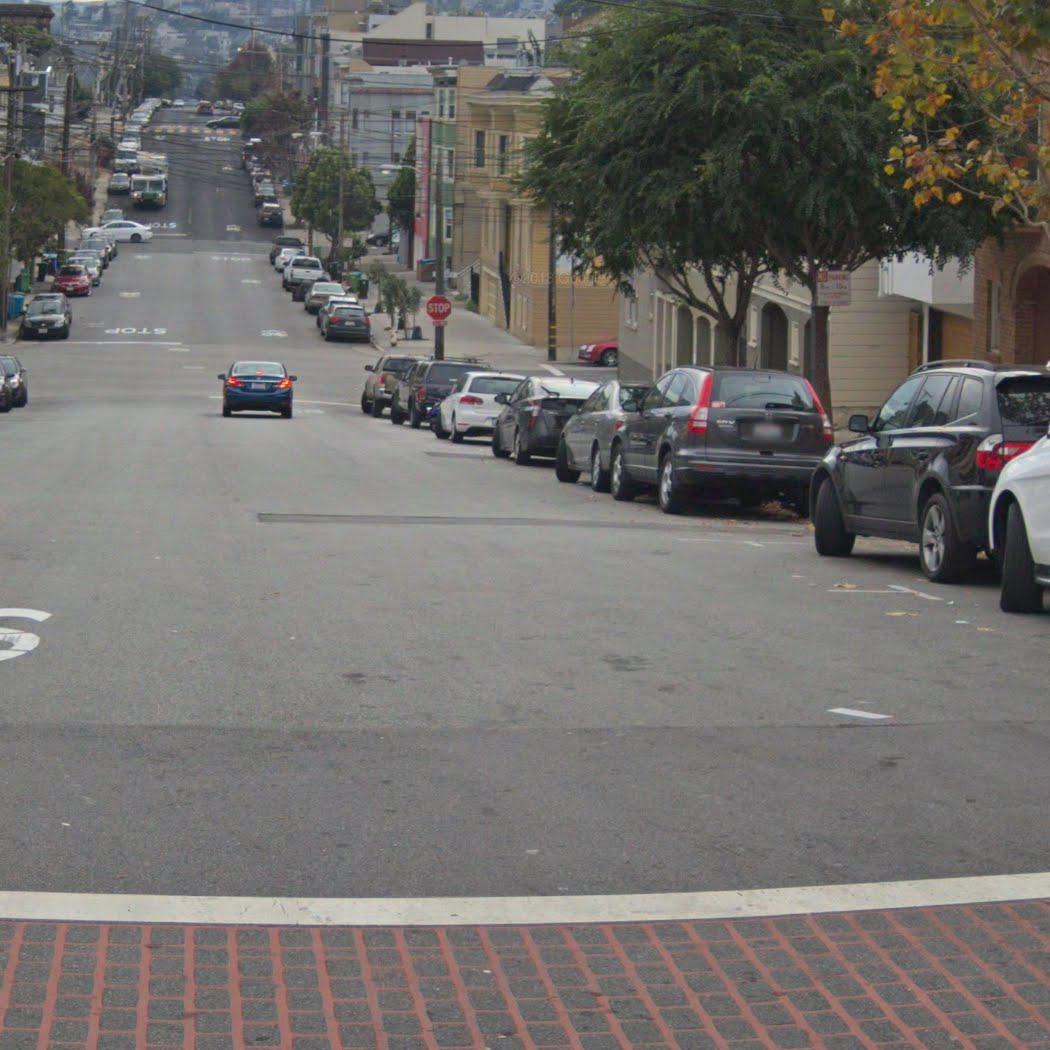No Parking: (815, 270, 852, 307)
